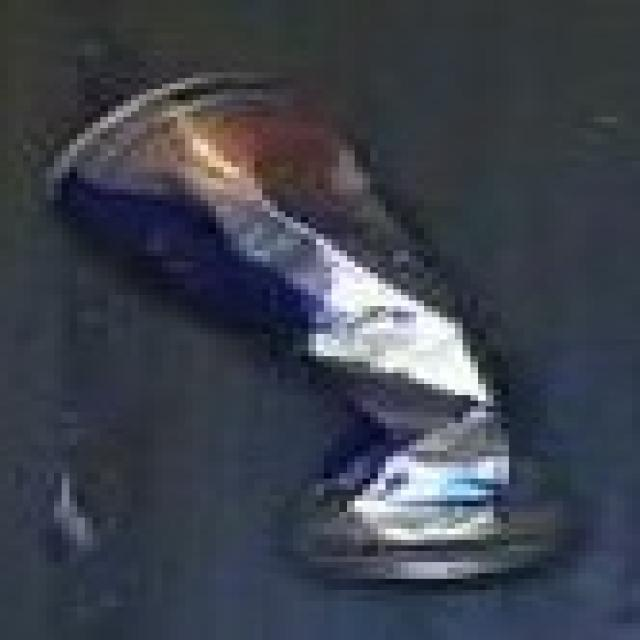can: (13, 27, 615, 606)
